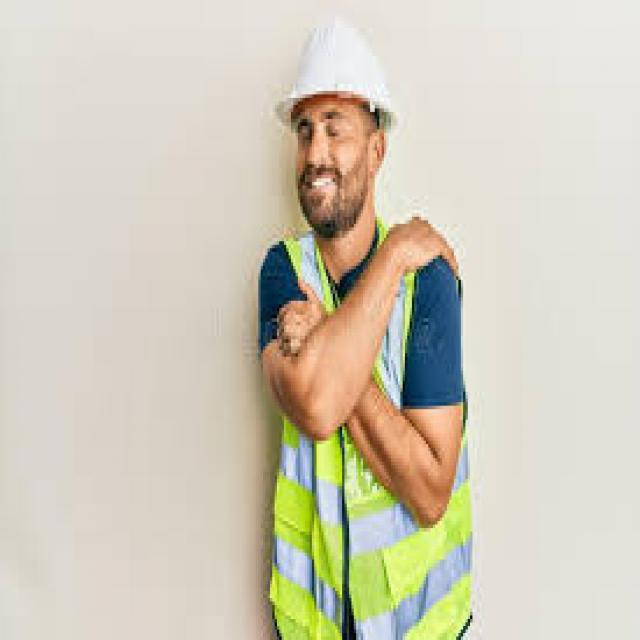Reflective-Jacket: (266, 228, 480, 630)
Safety-Helmet: (277, 14, 400, 140)
